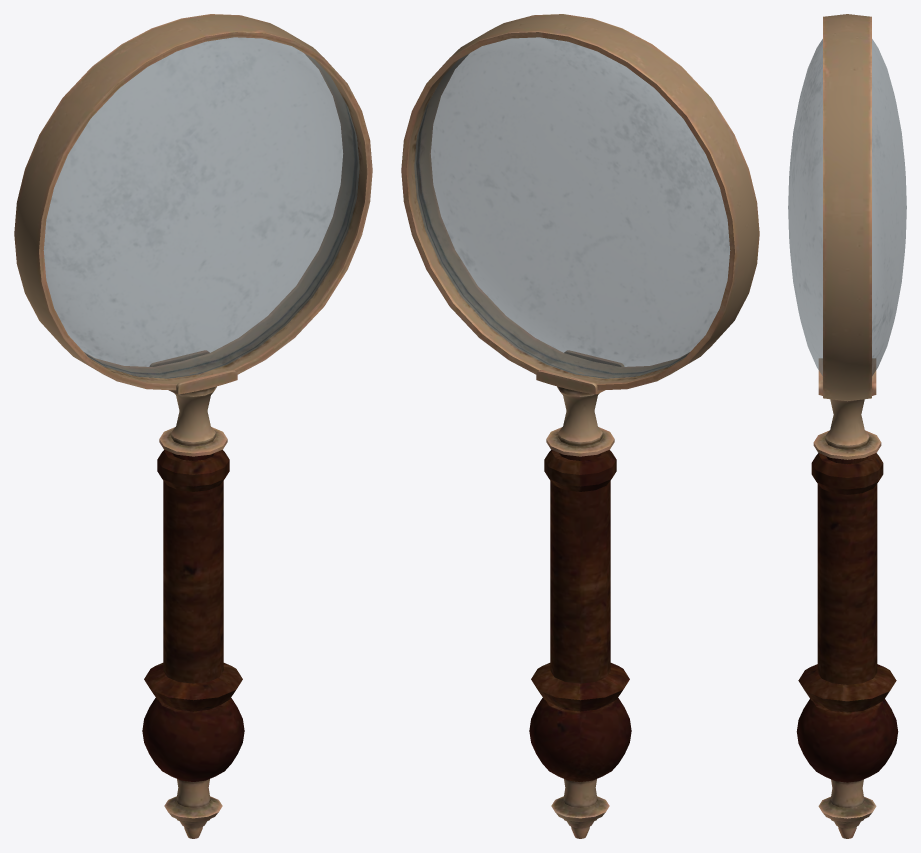
The model's file is magnifying-glass.glb.
3 renders of one model, left to right at view 1: azimuth 30°, elevation 25°; view 2: azimuth 150°, elevation 25°; view 3: azimuth 270°, elevation 25°, orthographic.
Parts seen in each view (by area): view 1: lupe_glass_low, lupe_grip_low, lupe_frame_low; view 2: lupe_glass_low, lupe_grip_low, lupe_frame_low; view 3: lupe_grip_low, lupe_frame_low, lupe_glass_low.
Part boxes in pixels (<box>): lupe_glass_low: <box>43,37,359,378</box>; lupe_grip_low: <box>142,350,244,838</box>; lupe_frame_low: <box>14,14,372,390</box>; lupe_glass_low: <box>414,37,730,378</box>; lupe_grip_low: <box>529,350,631,838</box>; lupe_frame_low: <box>401,14,759,390</box>; lupe_grip_low: <box>796,358,898,838</box>; lupe_frame_low: <box>823,14,871,401</box>; lupe_glass_low: <box>788,39,906,375</box>.
Bounding box in the file's own units: 54.06 × 124 × 16.54.
Materials: 1 (1 with a texture image).
